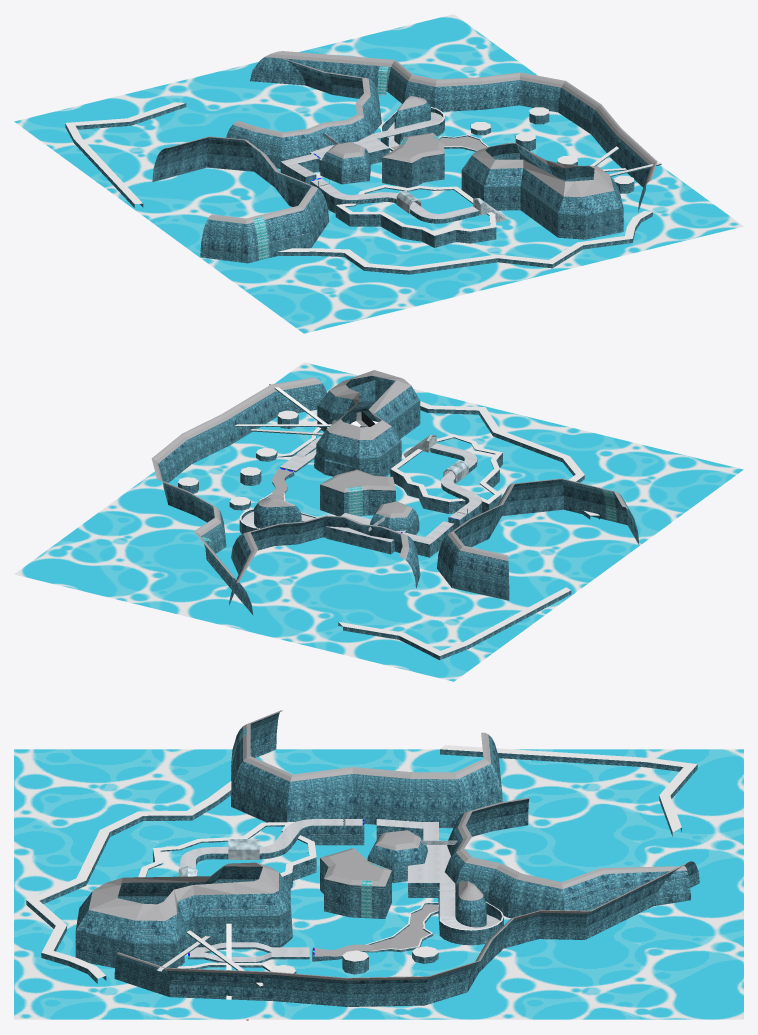
3 views of the same model, one above another, from view 1: azimuth 30°, elevation 25°; view 2: azimuth 150°, elevation 25°; view 3: azimuth 270°, elevation 25° (orthographic). The views are drawn at different scales.
Visible parts, largest first — view 1: water.017, WIL, SnowL, Die, groundN, Waterfalls, IcyRock; view 2: water.017, WIL, SnowL, Die, groundN, Waterfalls, IcyRock; view 3: water.017, WIL, SnowL, Die, groundN, IcyRock, Waterfalls.
Boxes of the visible parts, left/top/right/bottom form: water.017: left=14, top=14, right=743, bottom=333; WIL: left=65, top=57, right=661, bottom=274; SnowL: left=163, top=51, right=657, bottom=223; Die: left=65, top=102, right=661, bottom=270; groundN: left=281, top=112, right=478, bottom=218; Waterfalls: left=252, top=66, right=439, bottom=260; IcyRock: left=325, top=133, right=506, bottom=222; water.017: left=14, top=362, right=743, bottom=681; WIL: left=158, top=376, right=639, bottom=660; SnowL: left=151, top=370, right=628, bottom=584; Die: left=178, top=383, right=599, bottom=655; groundN: left=242, top=436, right=481, bottom=544; Waterfalls: left=202, top=477, right=616, bottom=552; IcyRock: left=369, top=435, right=468, bottom=531; water.017: left=14, top=749, right=743, bottom=1019; WIL: left=26, top=712, right=699, bottom=1006; SnowL: left=88, top=710, right=692, bottom=980; Die: left=26, top=745, right=697, bottom=999; groundN: left=180, top=819, right=499, bottom=961; IcyRock: left=178, top=839, right=457, bottom=876; Waterfalls: left=231, top=728, right=593, bottom=918.
Bounding box in the file's own units: 132572 × 20471 × 151311.
Materials: 18 (17 with a texture image).
